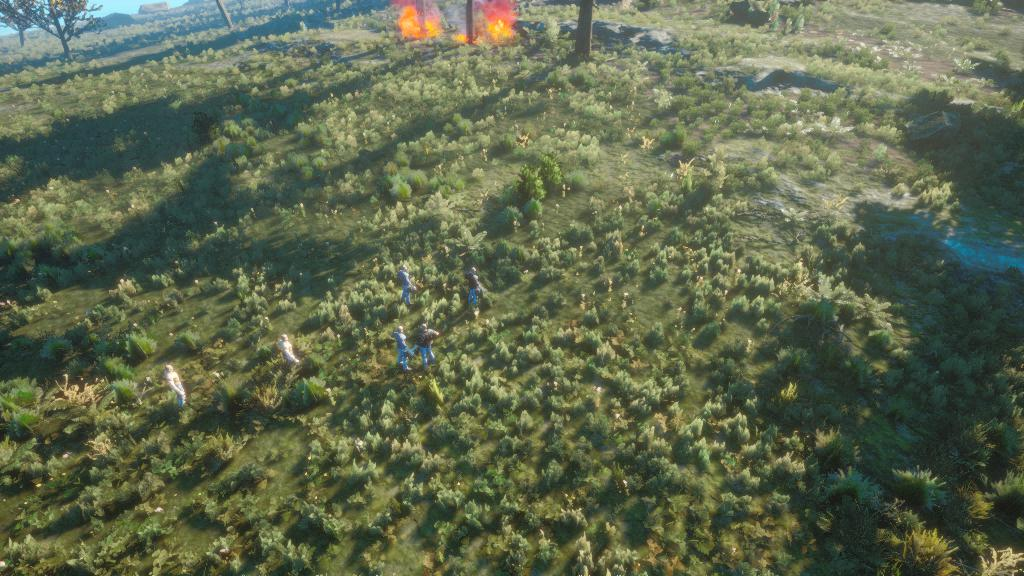Fire: (454, 0, 522, 45), (389, 1, 448, 44)
human: (152, 357, 200, 414), (269, 325, 310, 379), (455, 263, 490, 321), (409, 321, 445, 371), (385, 261, 419, 309), (385, 320, 414, 376)
